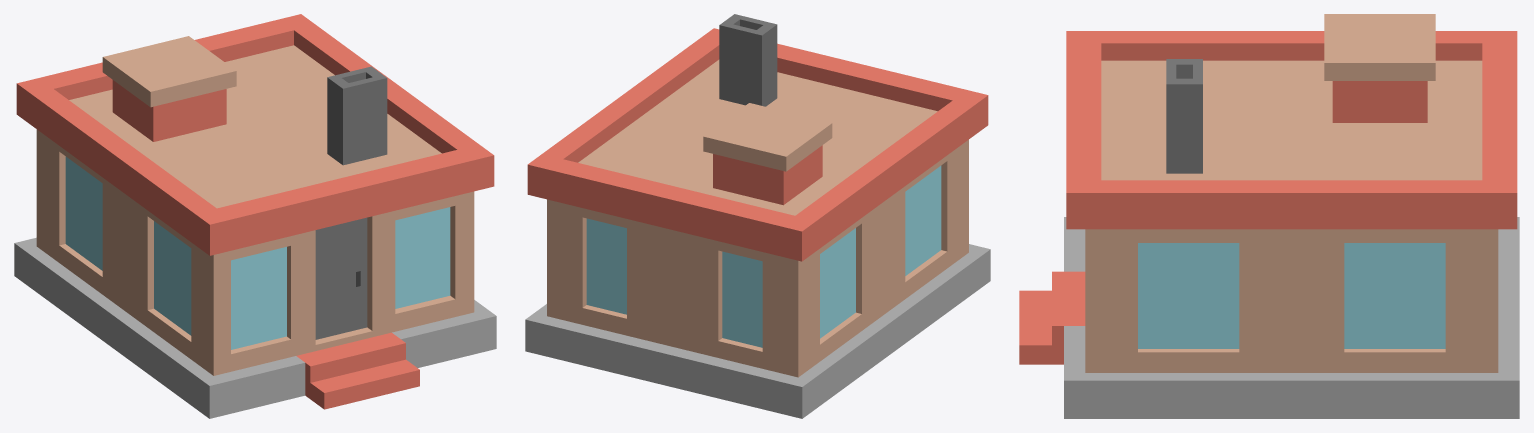
The model's file is House 1.1.fbx.
3 views of the same model, side by side, from view 1: azimuth 30°, elevation 25°; view 2: azimuth 150°, elevation 25°; view 3: azimuth 270°, elevation 25° (orthographic). The views are drawn at different scales.
Visible parts, largest first — view 1: House_Type1_1; view 2: House_Type1_1; view 3: House_Type1_1.
Boxes of the visible parts, left/top/right/bottom form: House_Type1_1: left=14, top=14, right=496, bottom=418; House_Type1_1: left=525, top=14, right=990, bottom=418; House_Type1_1: left=1019, top=14, right=1519, bottom=418.
Bounding box in the file's own units: 364 × 309 × 471.
